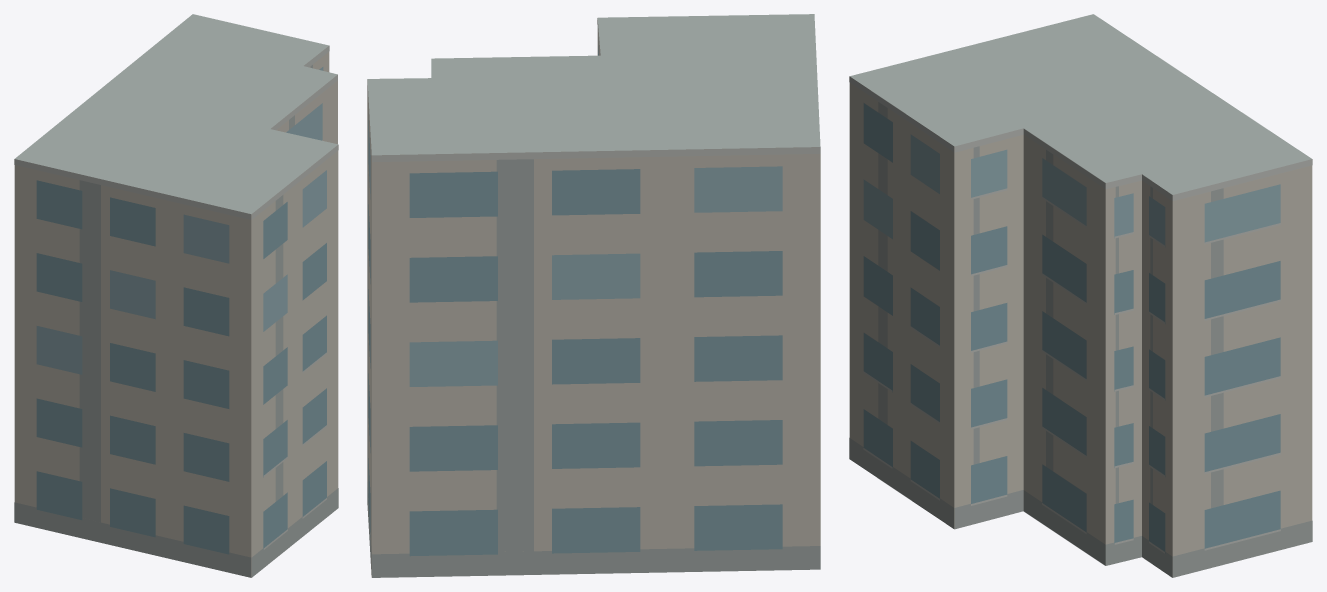
The model's file is survey-upis-32861919.glb.
3 renders of one model, left to right at view 1: azimuth 30°, elevation 25°; view 2: azimuth 150°, elevation 25°; view 3: azimuth 270°, elevation 25°, orthographic. The views are drawn at different scales.
Parts seen in each view (by area): view 1: survey-upis-32861919.tmp; view 2: survey-upis-32861919.tmp; view 3: survey-upis-32861919.tmp.
Boxes of the visible parts, x1=… form: survey-upis-32861919.tmp: x1=14, y1=14, x2=338, y2=577; survey-upis-32861919.tmp: x1=367, y1=14, x2=820, y2=577; survey-upis-32861919.tmp: x1=849, y1=14, x2=1312, y2=577.
Bounding box in the file's own units: 15.22 × 15 × 16.45.
